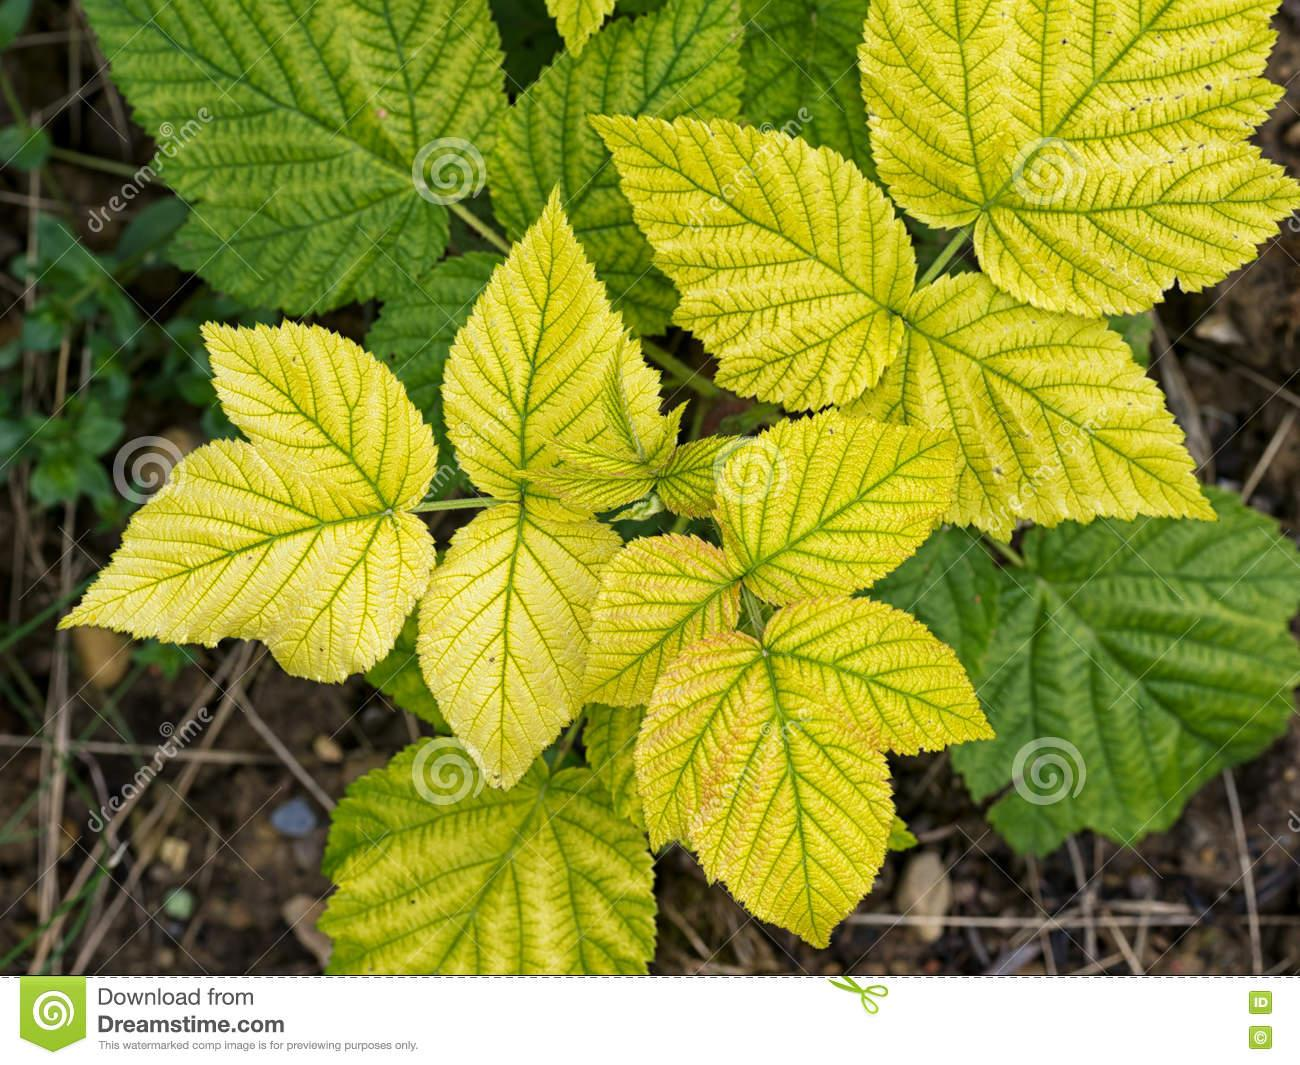Raspberry leaf: (863, 1, 1290, 319), (53, 320, 438, 671), (638, 599, 990, 963), (583, 105, 920, 417), (868, 270, 1225, 537), (442, 174, 645, 499), (420, 498, 641, 794), (722, 419, 984, 628), (574, 534, 747, 716)
